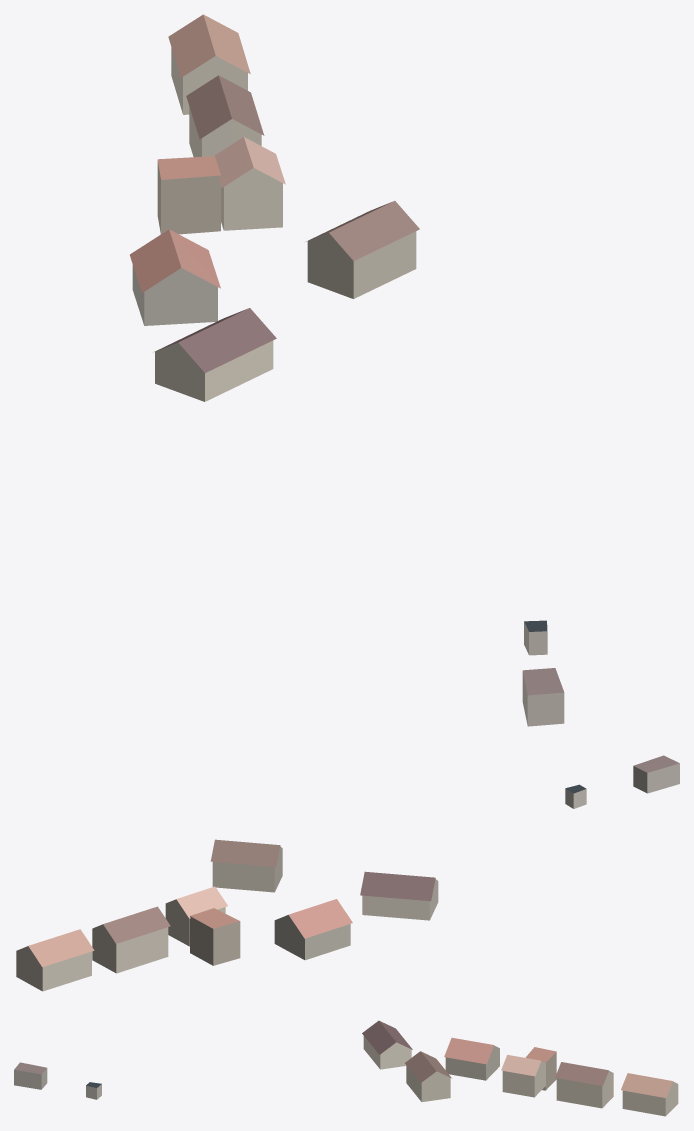
3 views of the same model, one above another, from view 1: azimuth 30°, elevation 25°; view 2: azimuth 150°, elevation 25°; view 3: azimuth 270°, elevation 25° (orthographic). The views are drawn at different scales.
Visible parts, largest first — view 1: tuile; view 2: tuile; view 3: tuile.
Boxes of the visible parts, <box> form: tuile: <box>130,14,564,726</box>; tuile: <box>16,755,679,991</box>; tuile: <box>14,1020,678,1116</box>.
Size of the model in its own units: 54 by 22.21 by 174.
